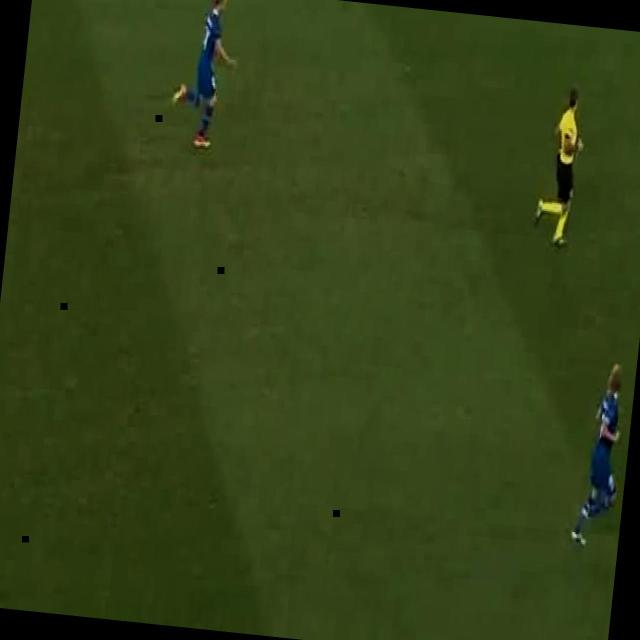player-white: (570, 359, 630, 547), (168, 0, 242, 150), (531, 88, 589, 251)
